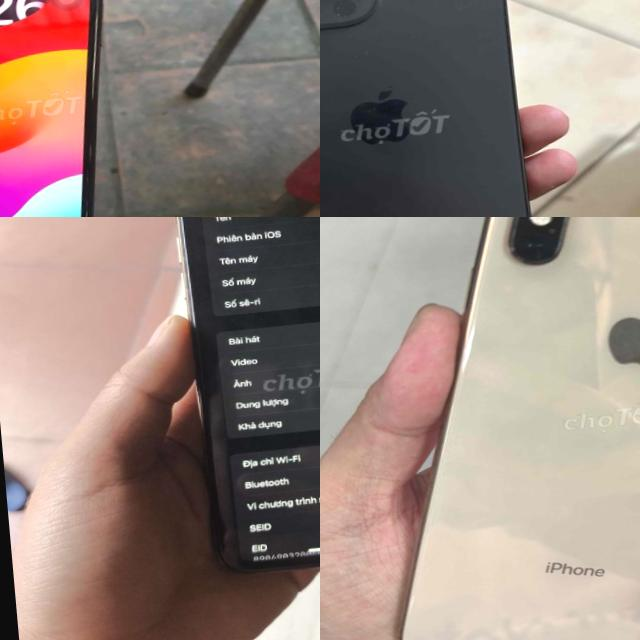gen_14: (320, 0, 575, 217)
gen_x_xs: (355, 217, 640, 640), (177, 217, 320, 571), (0, 0, 101, 217)
